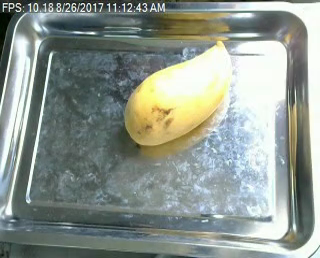Mango: (120, 39, 235, 145)
